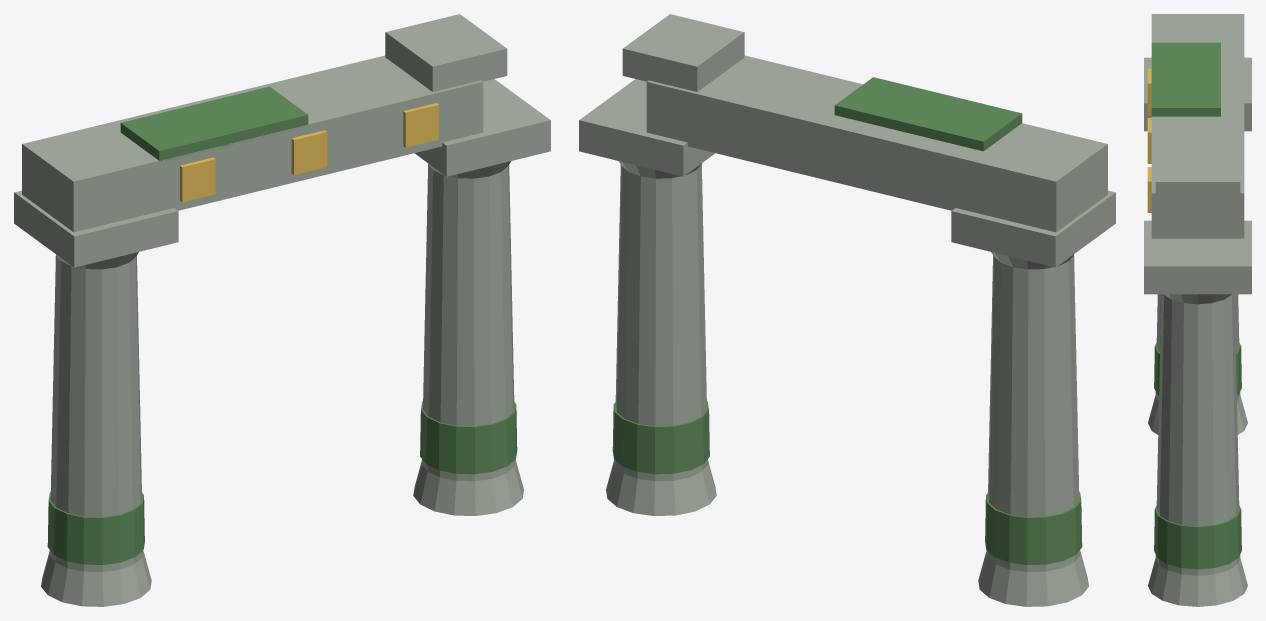
File: ruin_arch.glb
3 renders of one model, left to right at view 1: azimuth 30°, elevation 25°; view 2: azimuth 150°, elevation 25°; view 3: azimuth 270°, elevation 25°, orthographic. The views are drawn at different scales.
Visible parts, largest first — view 1: LOD0; view 2: LOD0; view 3: LOD0.
Boxes of the visible parts, box(x1,y1,x2,y2) form: LOD0: box(14, 14, 550, 606); LOD0: box(579, 14, 1115, 606); LOD0: box(1144, 14, 1251, 606).
Size of what is drawn, in the model's own units: 12.8 by 11.75 by 2.8.
